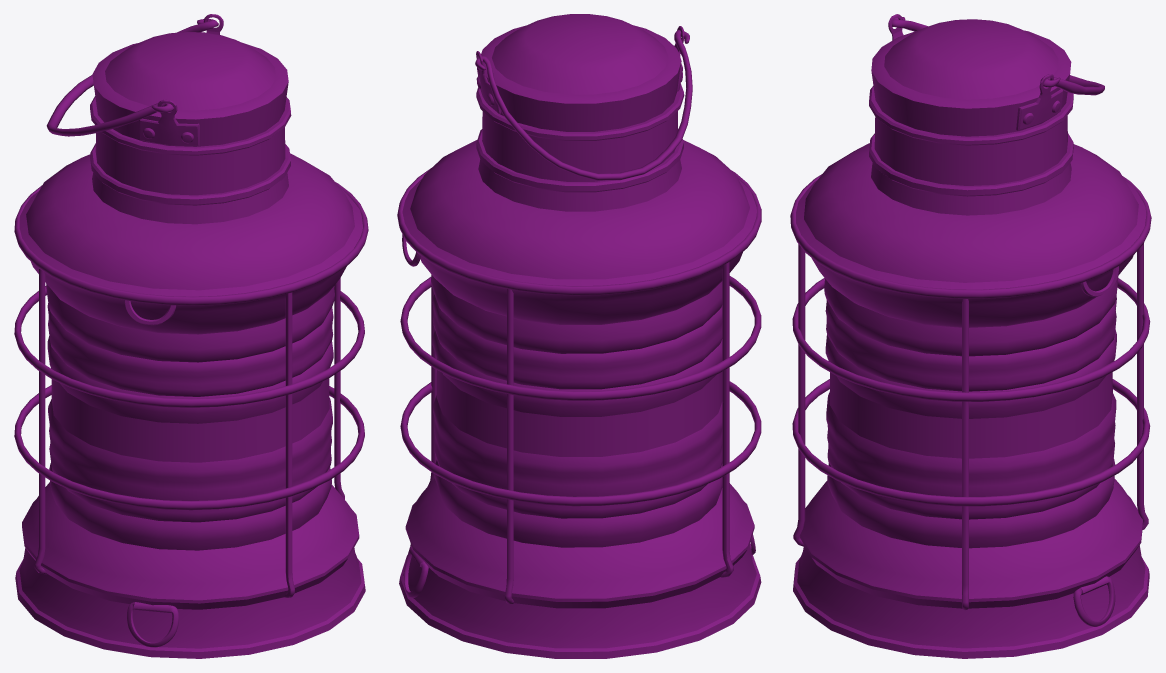
The model's file is gannetlamp.fbx.
The picture shows the model from 3 angles, left to right: view 1: azimuth 30°, elevation 25°; view 2: azimuth 150°, elevation 25°; view 3: azimuth 270°, elevation 25°; orthographic projection. The views are drawn at different scales.
Visible parts, largest first — view 1: Cylinder005, Object100; view 2: Cylinder005, Object100; view 3: Cylinder005, Object100.
Boxes of the visible parts, x1,y1,x2,y2 form: Cylinder005: (14,14,368,658); Object100: (46,283,334,550); Cylinder005: (397,14,761,658); Object100: (431,275,722,547); Cylinder005: (790,14,1151,658); Object100: (824,276,1118,548).
Size of the model in its own units: 14.62 by 24.37 by 14.61.
